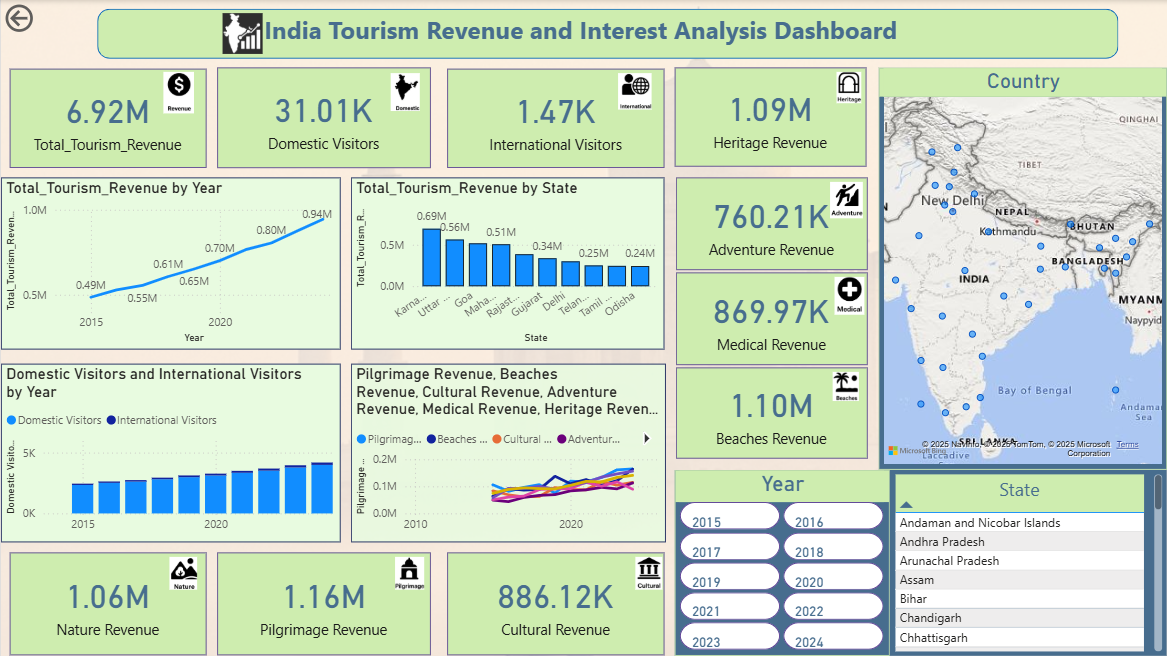

The page's visual inventory and layout, read from the dashboard file:
{"tool":"powerbi","page":{"name":"Page 1","canvas":[1280,720],"ordinal":0},"visuals":[{"type":"shape","box":[105.7,9.6,1121.1,54.9],"z":0},{"type":"textbox","box":[284,9.6,811,64.5],"z":1000},{"type":"advancedSlicerVisual","fields":{"Values":["TourismData.Year"]},"box":[740,515.7,235.7,204.3],"z":2000},{"type":"map","title":"Country","fields":{"Category":["TourismData.State"]},"box":[962.9,74.3,317.1,441.4],"z":3000},{"type":"tableEx","fields":{"Values":["TourismData.State"]},"box":[975.7,515.7,304.3,204.3],"z":4000},{"type":"card","fields":{"Values":["TourismData.Total_Tourism_Revenue"]},"box":[10,75.7,215.7,108.6],"z":5000},{"type":"card","fields":{"Values":["TourismData.Domestic Visitors"]},"box":[237.1,74.3,234.3,110],"z":6000},{"type":"actionButton","box":[0,0,100,40],"z":7000},{"type":"card","fields":{"Values":["TourismData.International Visitors"]},"box":[490,75.7,238.6,108.6],"z":8000},{"type":"card","fields":{"Values":["TourismData.Adventure Revenue"]},"box":[741.4,194.3,210,101.4],"z":9000},{"type":"card","fields":{"Values":["TourismData.Beaches Revenue"]},"box":[741.4,402.9,210,100],"z":10000},{"type":"card","fields":{"Values":["TourismData.Cultural Revenue"]},"box":[490,607.1,238.6,112.9],"z":11000},{"type":"card","fields":{"Values":["TourismData.Heritage Revenue"]},"box":[740,74.3,210,108.6],"z":12000},{"type":"card","fields":{"Values":["TourismData.Medical Revenue"]},"box":[741.4,298.6,210,101.4],"z":13000},{"type":"card","fields":{"Values":["TourismData.Nature Revenue"]},"box":[10,607.1,215.7,112.9],"z":14000},{"type":"card","fields":{"Values":["TourismData.Pilgrimage Revenue"]},"box":[237.1,607.1,234.3,112.9],"z":15000},{"type":"image","box":[681.4,607.1,58.6,45.7],"z":16000},{"type":"image","box":[405.7,607.1,84.3,45.7],"z":17000},{"type":"image","box":[898.6,74.3,64.3,44.3],"z":18000},{"type":"image","box":[162.9,607.1,72.9,45.7],"z":19000},{"type":"image","box":[890,402.9,72.9,41.4],"z":20000},{"type":"image","box":[892.9,194.3,70,50],"z":21000},{"type":"image","box":[897.1,298.6,68.6,51.4],"z":22000},{"type":"image","box":[155.7,74.3,80,55.7],"z":23000},{"type":"image","box":[405.7,75.7,75.7,51.4],"z":24000},{"type":"image","box":[661.4,75.7,68.6,50],"z":25000},{"type":"image","box":[235.7,10,58.6,54.3],"z":26000},{"type":"lineChart","fields":{"Category":["TourismData.Year"],"Y":["TourismData.Total_Tourism_Revenue"]},"box":[0,194.3,372.9,188.6],"z":27000},{"type":"clusteredColumnChart","fields":{"Category":["TourismData.State"],"Y":["TourismData.Total_Tourism_Revenue"]},"box":[384.3,194.3,344.3,188.6],"z":28000},{"type":"columnChart","fields":{"Category":["TourismData.Year"],"Y":["TourismData.Domestic Visitors","TourismData.International Visitors"]},"box":[0,400,372.9,195.7],"z":29000},{"type":"lineChart","fields":{"Category":["TourismData.Year"],"Y":["TourismData.Pilgrimage Revenue","TourismData.Beaches Revenue","TourismData.Cultural Revenue","TourismData.Adventure Revenue","TourismData.Medical Revenue","TourismData.Heritage Revenue","TourismData.Nature Revenue"]},"box":[384.3,400,345.7,195.7],"z":30000}]}

Visuals, with their boxes in screenshot pixels (x1, y1, x2, y2), scaled from the page's 1280x720 canvas onto the 1167x656 screenshot:
shape: crop(96, 9, 1118, 59)
textbox: crop(259, 9, 998, 68)
advancedSlicerVisual - TourismData.Year: crop(675, 470, 890, 655)
"Country" map: crop(878, 68, 1166, 470)
tableEx - TourismData.State: crop(890, 470, 1166, 655)
card - TourismData.Total_Tourism_Revenue: crop(9, 69, 206, 168)
card - TourismData.Domestic Visitors: crop(216, 68, 430, 168)
actionButton: crop(0, 0, 91, 36)
card - TourismData.International Visitors: crop(447, 69, 664, 168)
card - TourismData.Adventure Revenue: crop(676, 177, 867, 269)
card - TourismData.Beaches Revenue: crop(676, 367, 867, 458)
card - TourismData.Cultural Revenue: crop(447, 553, 664, 655)
card - TourismData.Heritage Revenue: crop(675, 68, 866, 167)
card - TourismData.Medical Revenue: crop(676, 272, 867, 364)
card - TourismData.Nature Revenue: crop(9, 553, 206, 655)
card - TourismData.Pilgrimage Revenue: crop(216, 553, 430, 655)
image: crop(621, 553, 675, 595)
image: crop(370, 553, 447, 595)
image: crop(819, 68, 878, 108)
image: crop(149, 553, 215, 595)
image: crop(811, 367, 878, 405)
image: crop(814, 177, 878, 223)
image: crop(818, 272, 880, 319)
image: crop(142, 68, 215, 118)
image: crop(370, 69, 439, 116)
image: crop(603, 69, 666, 115)
image: crop(215, 9, 268, 59)
lineChart - TourismData.Year x TourismData.Total_Tourism_Revenue: crop(0, 177, 340, 349)
clusteredColumnChart - TourismData.State x TourismData.Total_Tourism_Revenue: crop(350, 177, 664, 349)
columnChart - TourismData.Year x TourismData.Domestic Visitors: crop(0, 364, 340, 543)
lineChart - TourismData.Year x TourismData.Pilgrimage Revenue: crop(350, 364, 666, 543)
